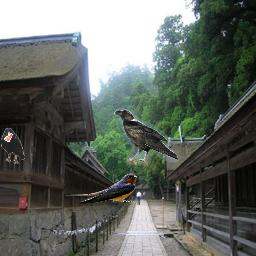Crow: (114, 109, 178, 167), (1, 128, 25, 164)
Swallow: (65, 173, 137, 204)
